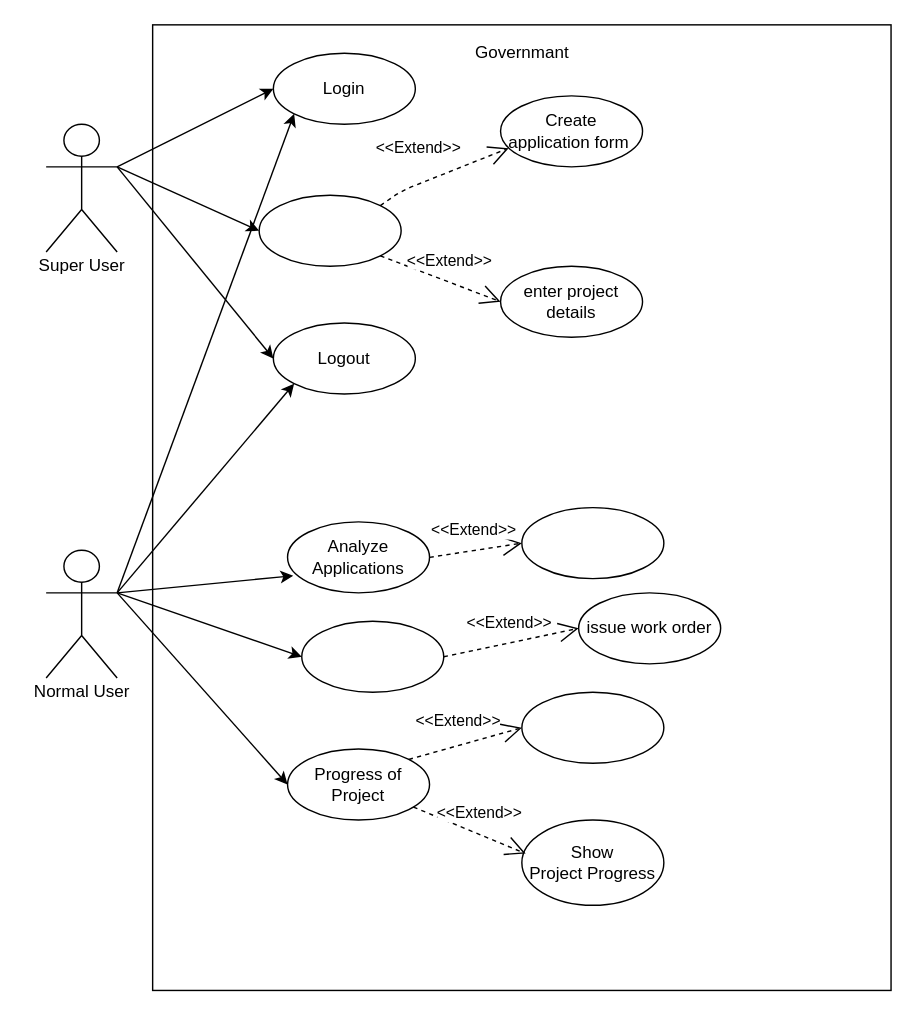
This 916x1015 diagram has some shape labels left out. The shapes that lost their labels are listed below. From the top down, each one's box as (x1, y1, x2, y2) in pixels, then its label:
(258, 194, 401, 266): Add new project
(520, 506, 664, 579): Document Verification
(300, 620, 444, 692): Approve or Decline Application
(520, 691, 664, 763): Update Project Progress
